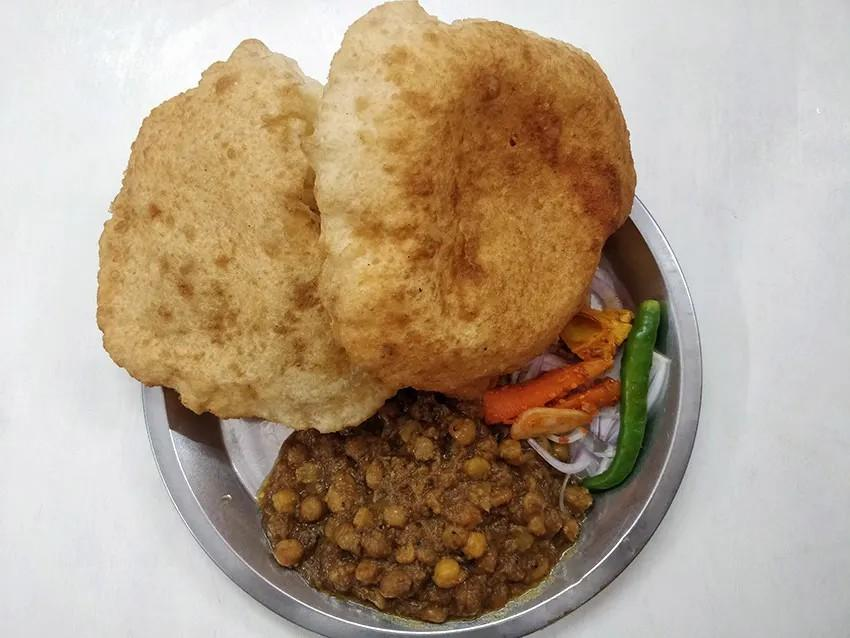Bhatura: (94, 0, 633, 434)
Chole: (271, 417, 585, 627)
